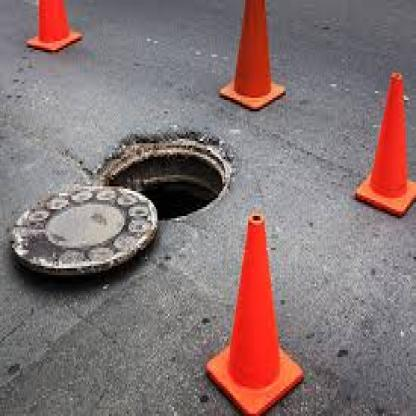manholes: (6, 95, 251, 307)
